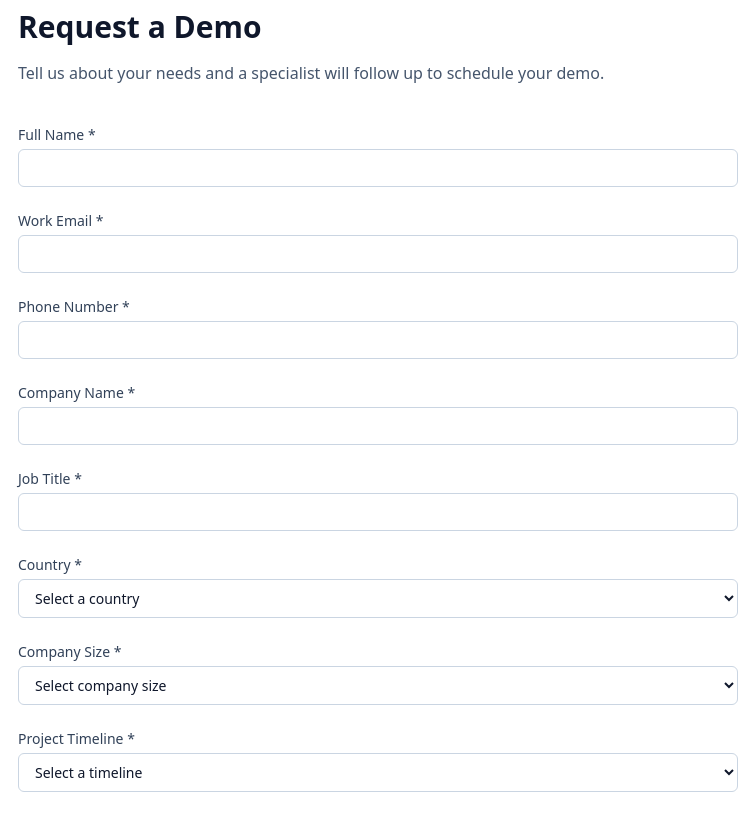
Test: RequestDemo › shows the exact spec error message for a blocklisted free-email domain
The image size is (755, 817).
In the field labelled "Work Email *": (378, 254) [18,235,738,273], type "jane@gmail.com"
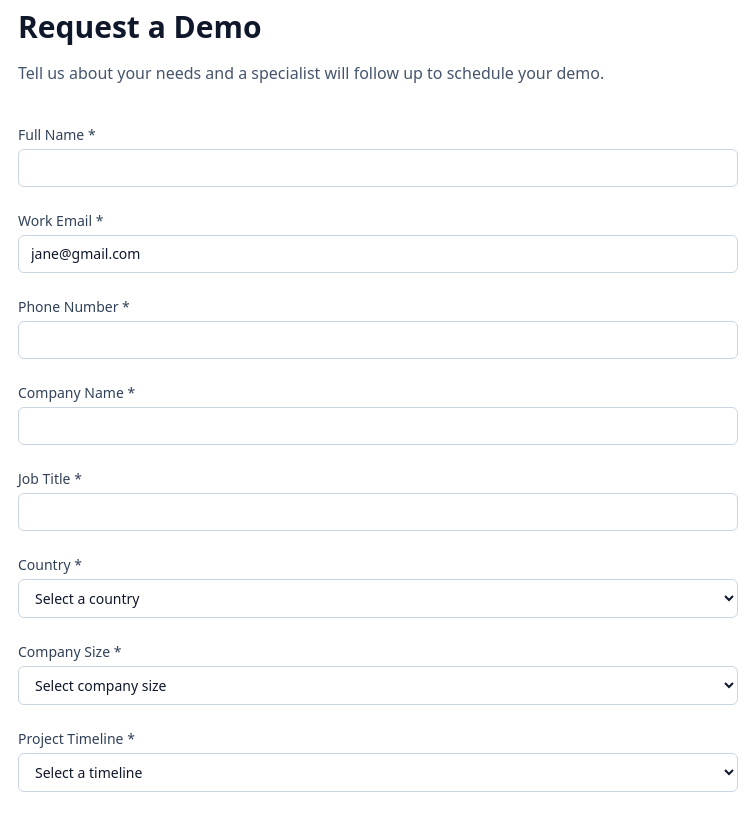
Leave the field labelled "Work Email *", box [18,235,738,273]
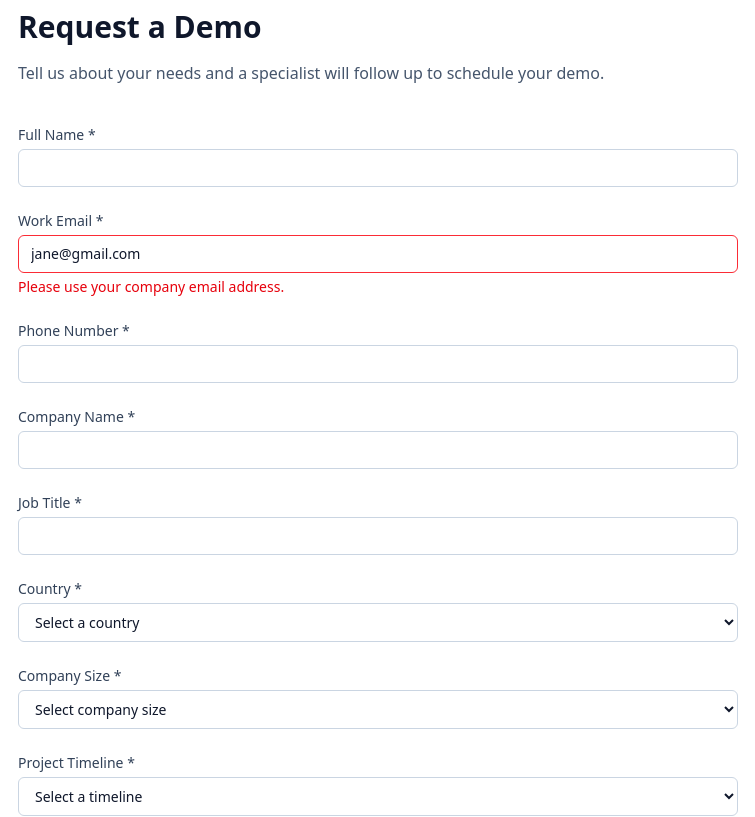
Check: the text "Please use your company email address." is shown, box [18,277,284,296]
